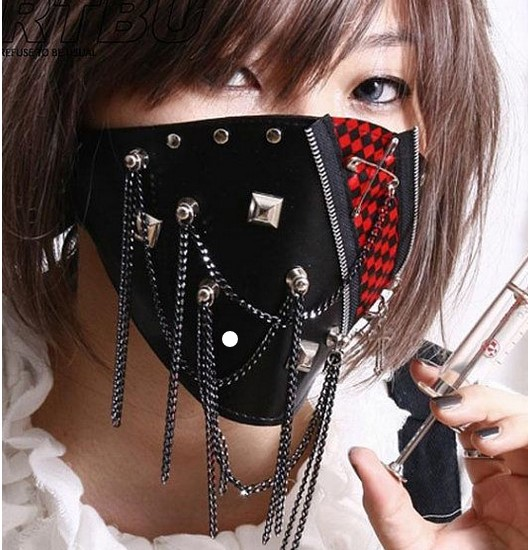face_with_mask: (40, 2, 441, 426)
